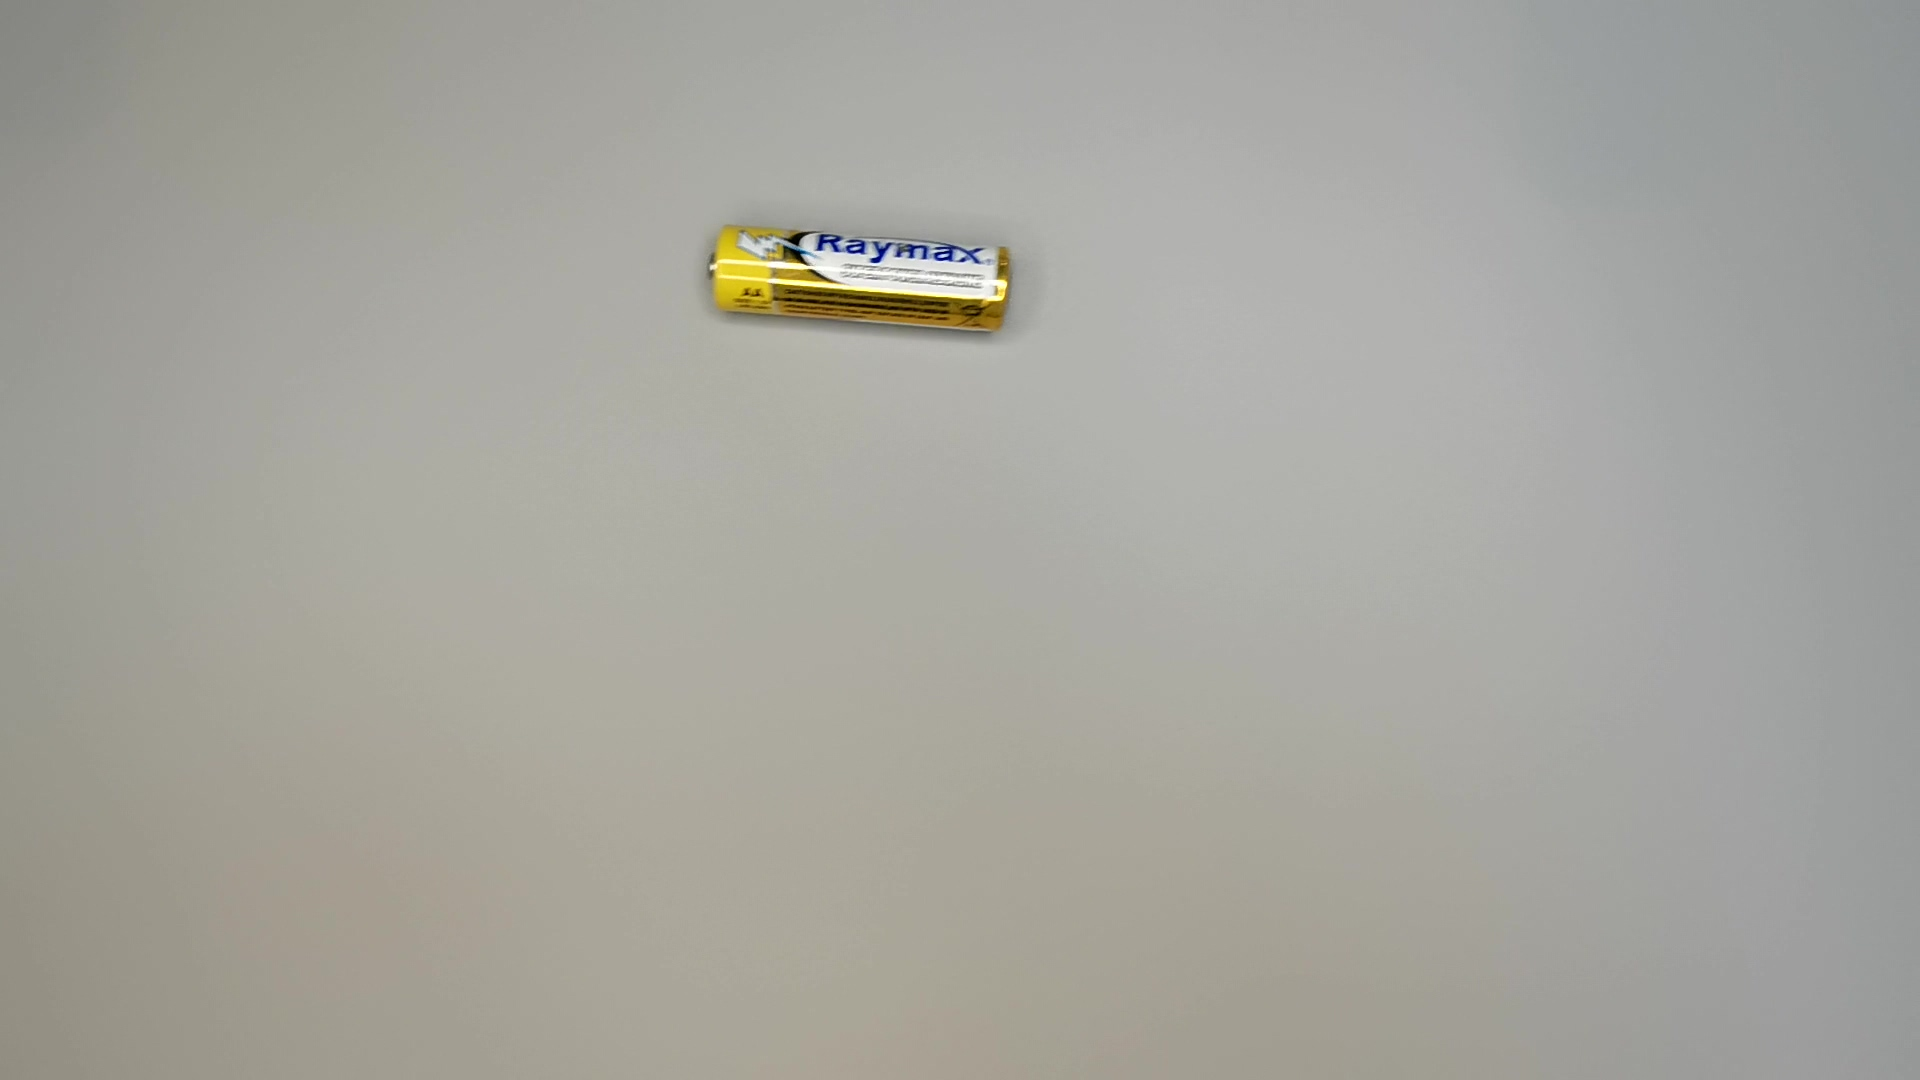battery: (700, 220, 1036, 343)
